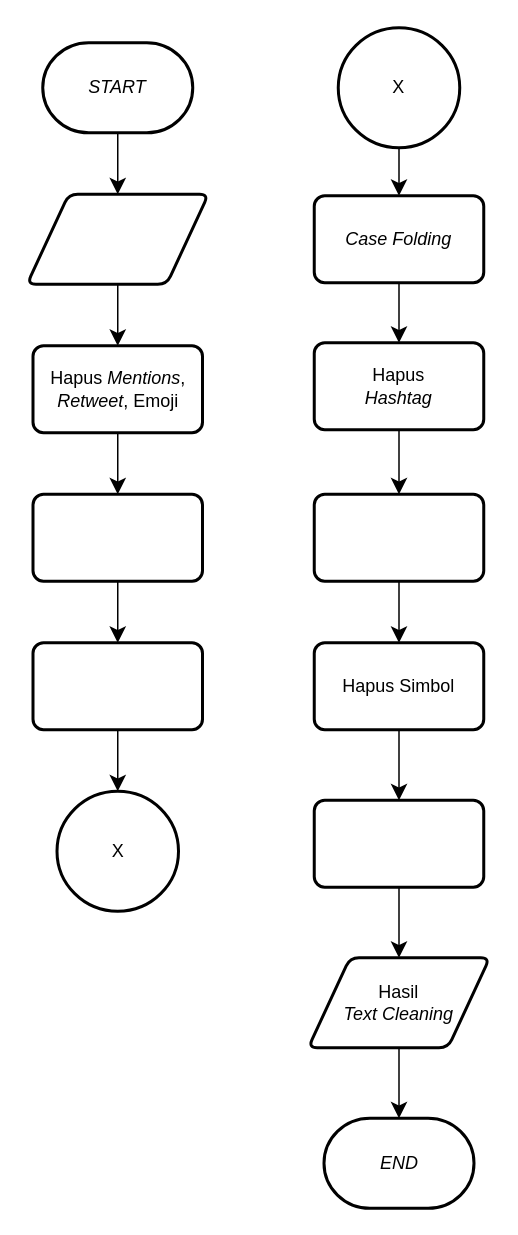
The diagram is 518 pixels wide and 1235 high, and some of its shapes have lost their labels. The box of each missing label's shape, as (x1, y1, x2, y2) in pixels:
Data Teks: (25, 192, 209, 285)
Hapus Angka: (312, 492, 484, 582)
Hapus Pengulangan Kata: (31, 492, 203, 582)
Hapus Spasi Berlebih: (312, 798, 484, 888)
Hapus URL ( http / https ): (31, 640, 203, 730)
